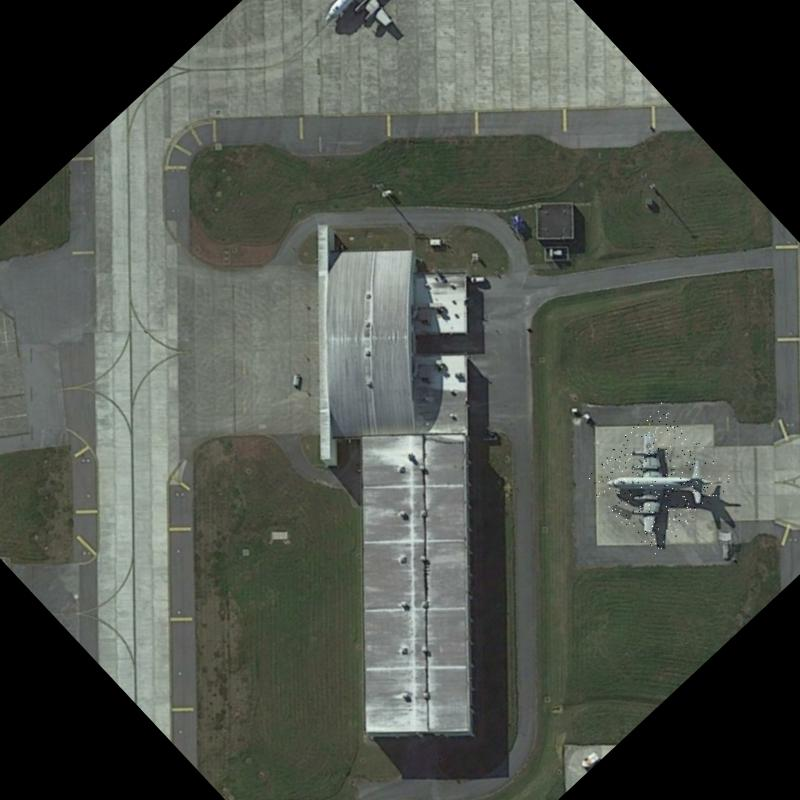A9: (580, 401, 736, 556), (281, 0, 445, 67)
